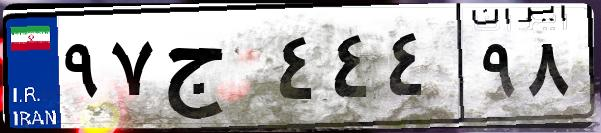4: (270, 28, 330, 110), (385, 28, 445, 110), (330, 28, 385, 110)
7: (110, 28, 158, 98)
8: (525, 38, 570, 115)
9: (57, 26, 110, 100), (475, 38, 525, 113)
ج: (158, 20, 270, 120)
